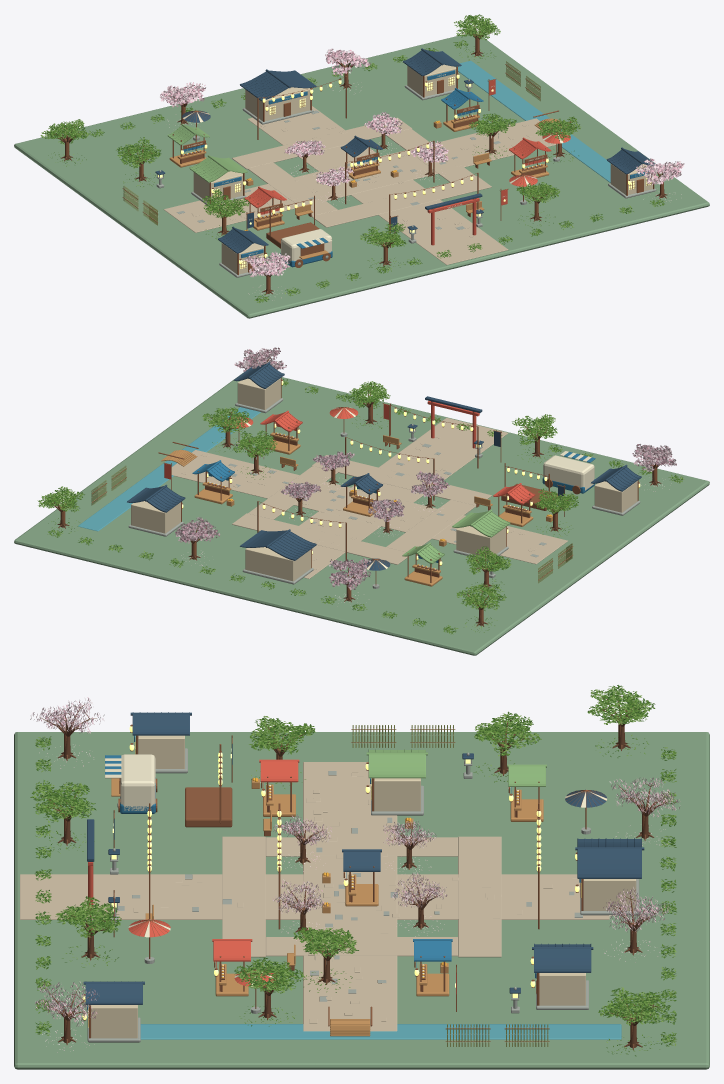
The model's file is yatai-village-hq.glb.
3 renders of one model, top to bottom at view 1: azimuth 30°, elevation 25°; view 2: azimuth 150°, elevation 25°; view 3: azimuth 270°, elevation 25°, orthographic. The views are drawn at different scales.
Parts seen in each view (by area): view 1: Village_Moss meadow, Village_Sandstone, Village_Cedar, Village_Blue slate, Village_Plaster, HQ individual leaves 2, HQ individual leaves 1, HQ individual leaves 0, HQ individual leaves 3, HQ five-petal sakura 0, HQ five-petal sakura 1, HQ five-petal sakura 2 (+10 smaller); view 2: Village_Moss meadow, Village_Sandstone, Village_Plaster, Village_Blue slate, Village_Cedar, HQ individual leaves 0, HQ individual leaves 2, HQ individual leaves 3, HQ individual leaves 1, HQ five-petal sakura 0, HQ five-petal sakura 1, Village_Honey timber (+10 smaller); view 3: Village_Moss meadow, Village_Sandstone, Village_Blue slate, Village_Plaster, Village_Cedar, HQ individual leaves 0, HQ individual leaves 3, Village_Stream, HQ individual leaves 2, HQ individual leaves 1, HQ tapered branches and exposed roots, Village_Honey timber (+10 smaller).
Boxes of the visible parts, x1=… form: Village_Moss meadow: x1=14, y1=34, x2=709, y2=318; Village_Sandstone: x1=164, y1=106, x2=567, y2=265; Village_Cedar: x1=65, y1=36, x2=663, y2=293; Village_Blue slate: x1=155, y1=48, x2=656, y2=253; Village_Plaster: x1=193, y1=64, x2=652, y2=274; HQ individual leaves 2: x1=41, y1=15, x2=664, y2=302; HQ individual leaves 1: x1=41, y1=15, x2=663, y2=302; HQ individual leaves 0: x1=41, y1=14, x2=664, y2=302; HQ individual leaves 3: x1=42, y1=15, x2=664, y2=302; HQ five-petal sakura 0: x1=160, y1=49, x2=682, y2=297; HQ five-petal sakura 1: x1=161, y1=48, x2=684, y2=300; HQ five-petal sakura 2: x1=160, y1=49, x2=683, y2=300; Village_Moss meadow: x1=14, y1=372, x2=709, y2=655; Village_Sandstone: x1=171, y1=417, x2=567, y2=578; Village_Plaster: x1=131, y1=378, x2=637, y2=581; Village_Blue slate: x1=127, y1=362, x2=641, y2=570; Village_Cedar: x1=61, y1=377, x2=657, y2=625; HQ individual leaves 0: x1=38, y1=379, x2=682, y2=632; HQ individual leaves 2: x1=39, y1=380, x2=683, y2=634; HQ individual leaves 3: x1=37, y1=380, x2=684, y2=634; HQ individual leaves 1: x1=39, y1=380, x2=681, y2=632; HQ five-petal sakura 0: x1=175, y1=348, x2=676, y2=598; HQ five-petal sakura 1: x1=175, y1=347, x2=676, y2=602; Village_Honey timber: x1=161, y1=432, x2=552, y2=586; Village_Moss meadow: x1=14, y1=732, x2=709, y2=1069; Village_Sandstone: x1=20, y1=762, x2=617, y2=1031; Village_Blue slate: x1=83, y1=712, x2=644, y2=1004; Village_Plaster: x1=91, y1=735, x2=636, y2=1038; Village_Cedar: x1=64, y1=718, x2=647, y2=1047; HQ individual leaves 0: x1=33, y1=685, x2=676, y2=1056; HQ individual leaves 3: x1=32, y1=687, x2=676, y2=1054; Village_Stream: x1=140, y1=1024, x2=621, y2=1039; HQ individual leaves 2: x1=33, y1=687, x2=676, y2=1053; HQ individual leaves 1: x1=30, y1=685, x2=676, y2=1052; HQ tapered branches and exposed roots: x1=39, y1=692, x2=672, y2=1050; Village_Honey timber: x1=111, y1=778, x2=543, y2=1036.
Size of the model in its own units: 67 by 6.44 by 59.
